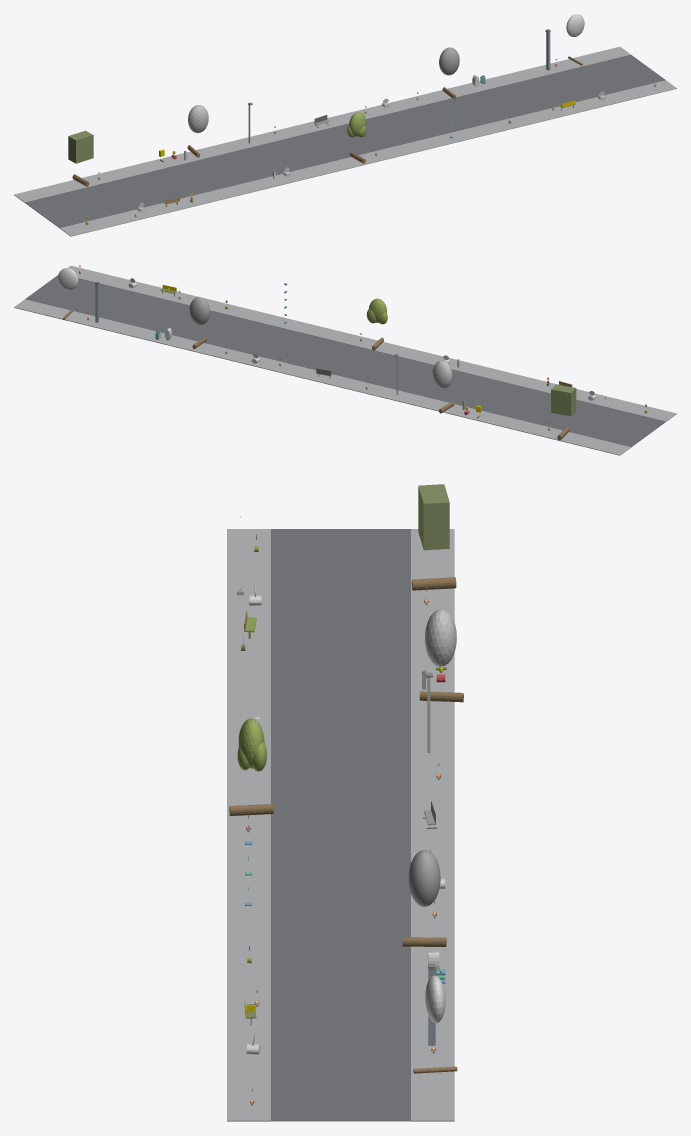
3 renders of one model, top to bottom at view 1: azimuth 30°, elevation 25°; view 2: azimuth 150°, elevation 25°; view 3: azimuth 270°, elevation 25°, orthographic. The views are drawn at different scales.
Parts seen in each view (by area): view 1: road_slab, sidewalk_left, sidewalk_right, inst_0012, inst_0015, inst_0013, inst_0014, inst_0016; view 2: road_slab, sidewalk_right, sidewalk_left, inst_0012, inst_0013, inst_0015, inst_0014, inst_0016; view 3: road_slab, sidewalk_left, sidewalk_right, inst_0012, inst_0015, inst_0013, inst_0014, inst_0016.
Part boxes in pixels (left/top/right/bottom): road_slab: left=25, top=54, right=665, bottom=228; sidewalk_left: left=60, top=80, right=676, bottom=236; sidewalk_right: left=14, top=46, right=630, bottom=202; inst_0012: left=68, top=130, right=93, bottom=186; inst_0015: left=439, top=47, right=459, bottom=99; inst_0013: left=187, top=105, right=208, bottom=157; inst_0014: left=347, top=112, right=366, bottom=163; inst_0016: left=566, top=14, right=584, bottom=65; road_slab: left=25, top=275, right=665, bottom=447; sidewalk_right: left=14, top=299, right=630, bottom=455; sidewalk_left: left=68, top=265, right=676, bottom=421; inst_0012: left=551, top=384, right=576, bottom=440; inst_0013: left=432, top=360, right=454, bottom=413; inst_0015: left=189, top=297, right=209, bottom=349; inst_0014: left=366, top=298, right=387, bottom=350; inst_0016: left=58, top=268, right=78, bottom=319; road_slab: left=271, top=529, right=410, bottom=1121; sidewalk_left: left=227, top=529, right=270, bottom=1121; sidewalk_right: left=411, top=529, right=454, bottom=1121; inst_0012: left=411, top=484, right=456, bottom=590; inst_0015: left=402, top=850, right=446, bottom=946; inst_0013: left=419, top=609, right=463, bottom=702; inst_0014: left=229, top=718, right=273, bottom=815; inst_0016: left=413, top=975, right=457, bottom=1073.
Bounding box in the file's own units: 80 × 6.08 × 13.53.
